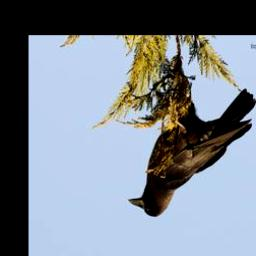Crow: (126, 83, 256, 222)
